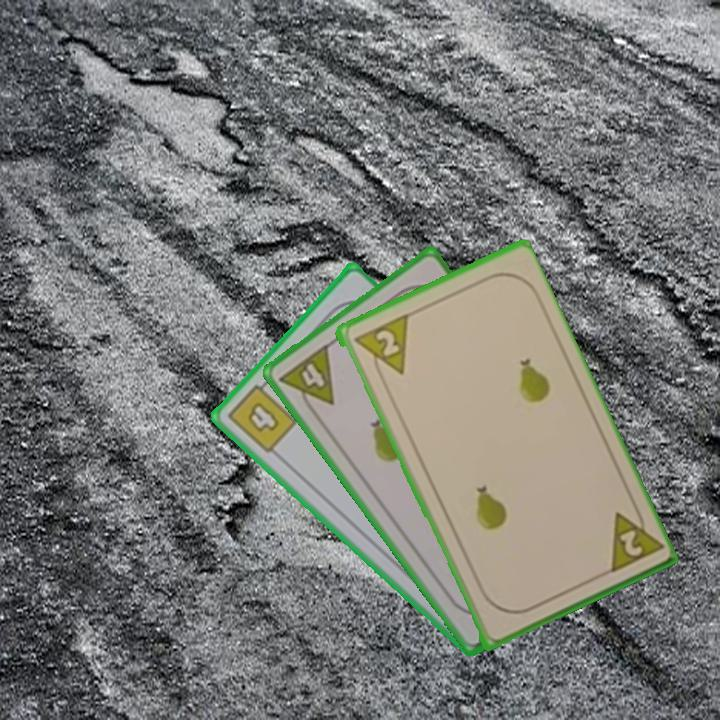2p: (349, 311, 411, 385), (615, 525, 645, 560)
4b: (224, 374, 300, 456)
4p: (276, 340, 337, 420)
